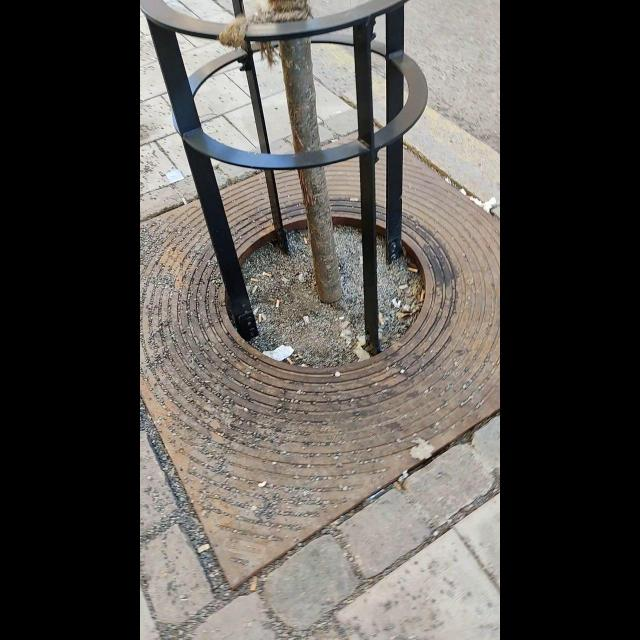cigarette: (197, 544, 211, 554), (250, 576, 258, 593), (274, 298, 280, 308), (303, 314, 309, 324), (378, 316, 383, 327), (410, 268, 420, 273), (258, 312, 262, 324), (286, 356, 291, 364), (263, 272, 272, 276), (304, 236, 308, 243), (252, 277, 259, 281)
